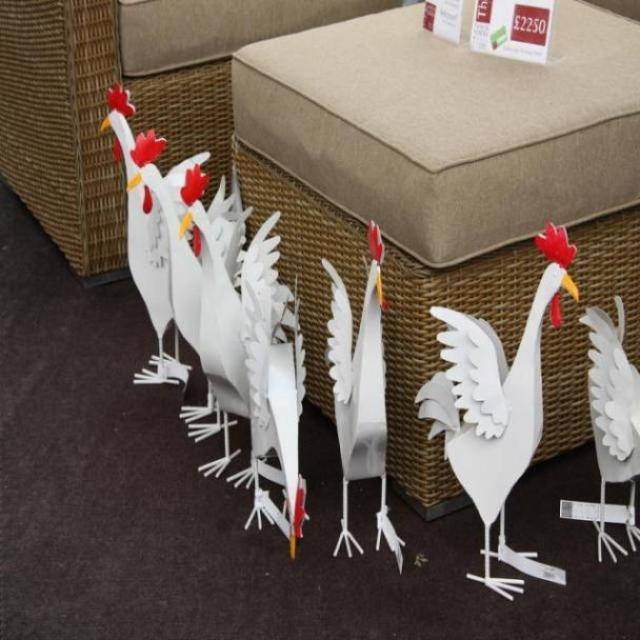Chicken: (95, 76, 410, 596), (422, 250, 576, 570), (569, 283, 640, 572)
